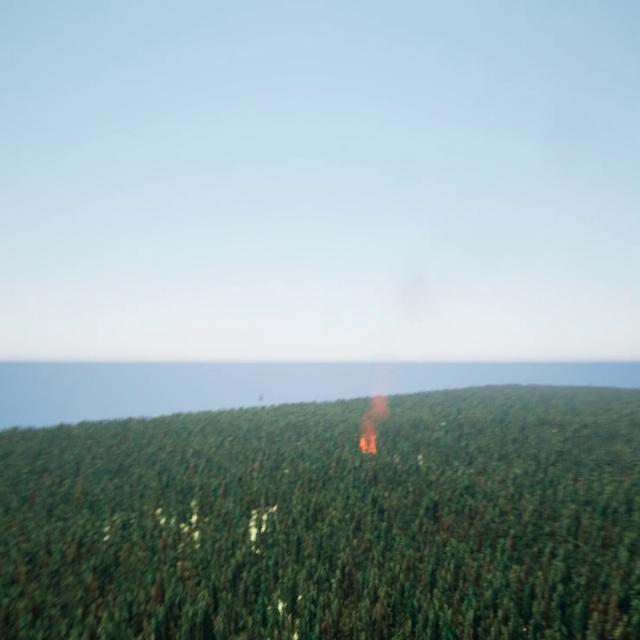fire: (357, 432, 379, 459)
smoke: (361, 376, 389, 436)
